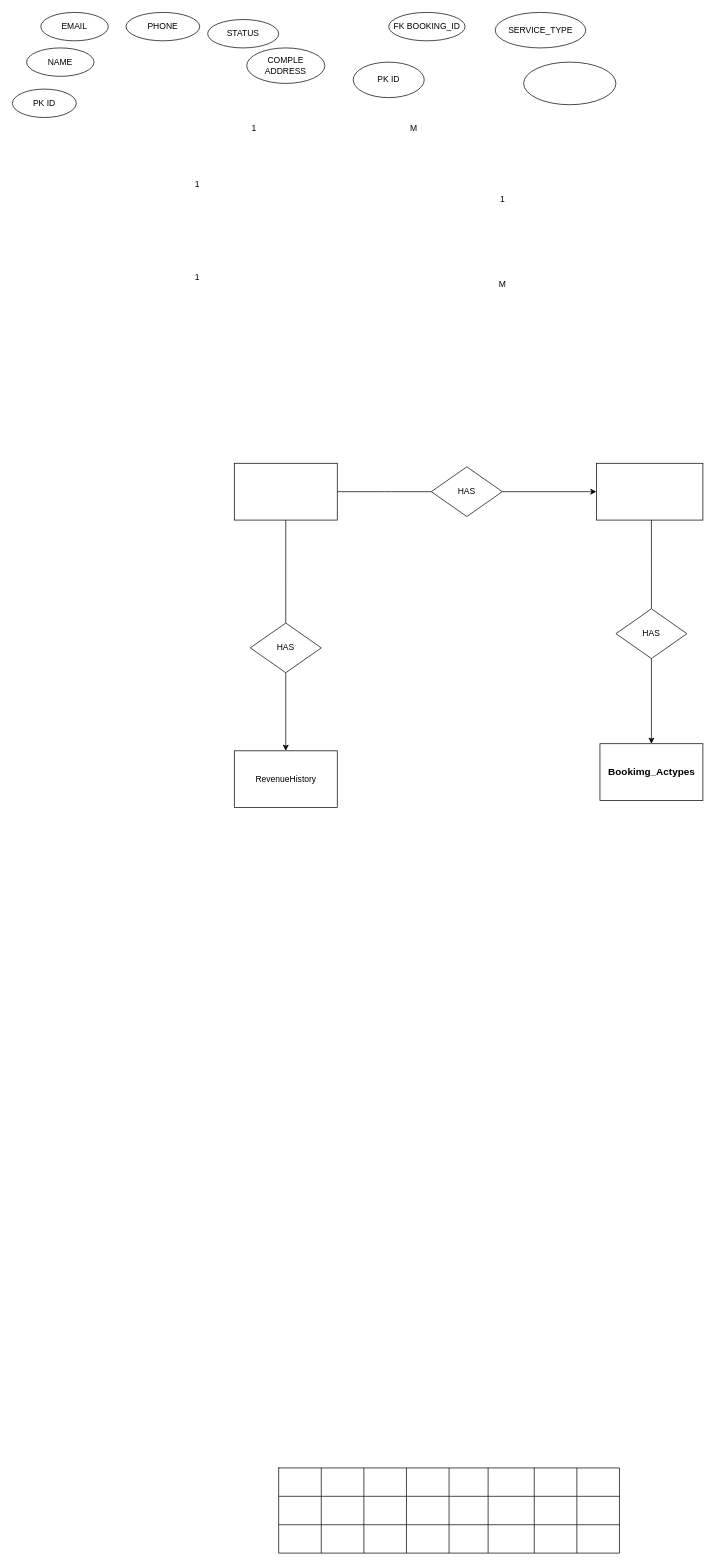
This 716x1566 diagram has some shape labels left out. Each missing label, with the centre of its shape:
APPOINTMENT_DATE: (569,83)
Booking: (285,491)
Booking_Service: (649,491)
